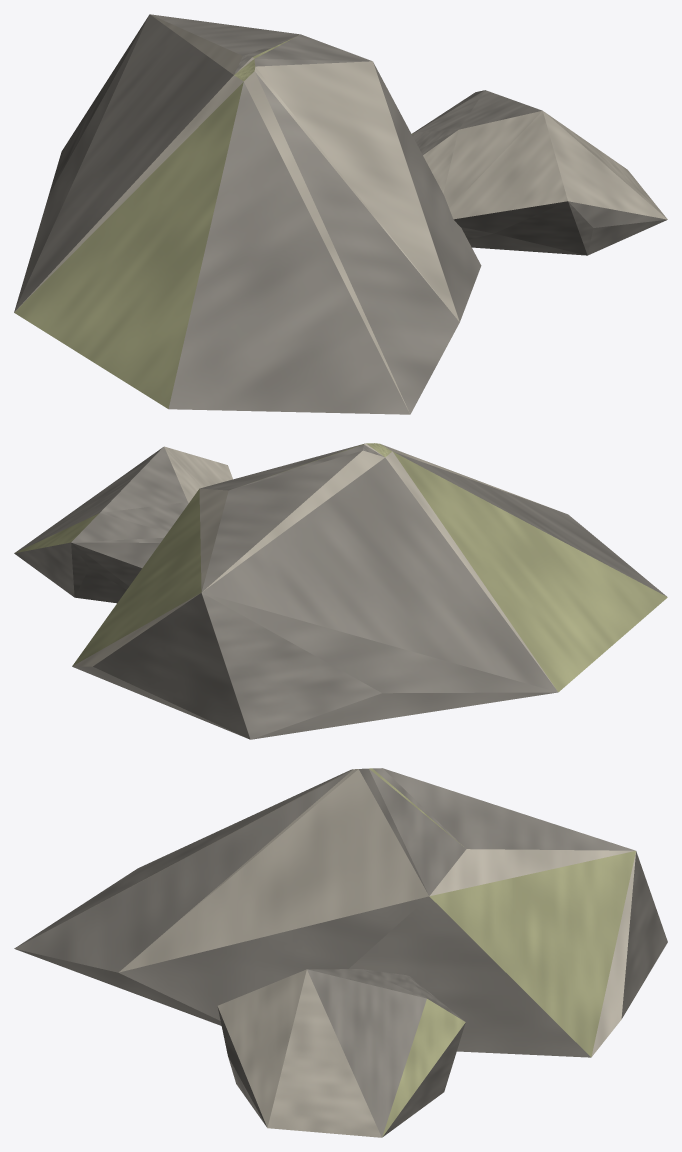
File: rock_pebble_set_03.fbx
The picture shows the model from 3 angles, top to bottom: view 1: azimuth 30°, elevation 25°; view 2: azimuth 150°, elevation 25°; view 3: azimuth 270°, elevation 25°; orthographic projection. The views are drawn at different scales.
Parts seen in each view (by area): view 1: rock_pebble_set_03; view 2: rock_pebble_set_03; view 3: rock_pebble_set_03.
Boxes of the visible parts, x1,y1,x2,y2 form: rock_pebble_set_03: (14,14,667,414); rock_pebble_set_03: (14,443,667,739); rock_pebble_set_03: (14,768,667,1137).
Bounding box in the file's own units: 0.2787 × 0.0918 × 0.2779.
